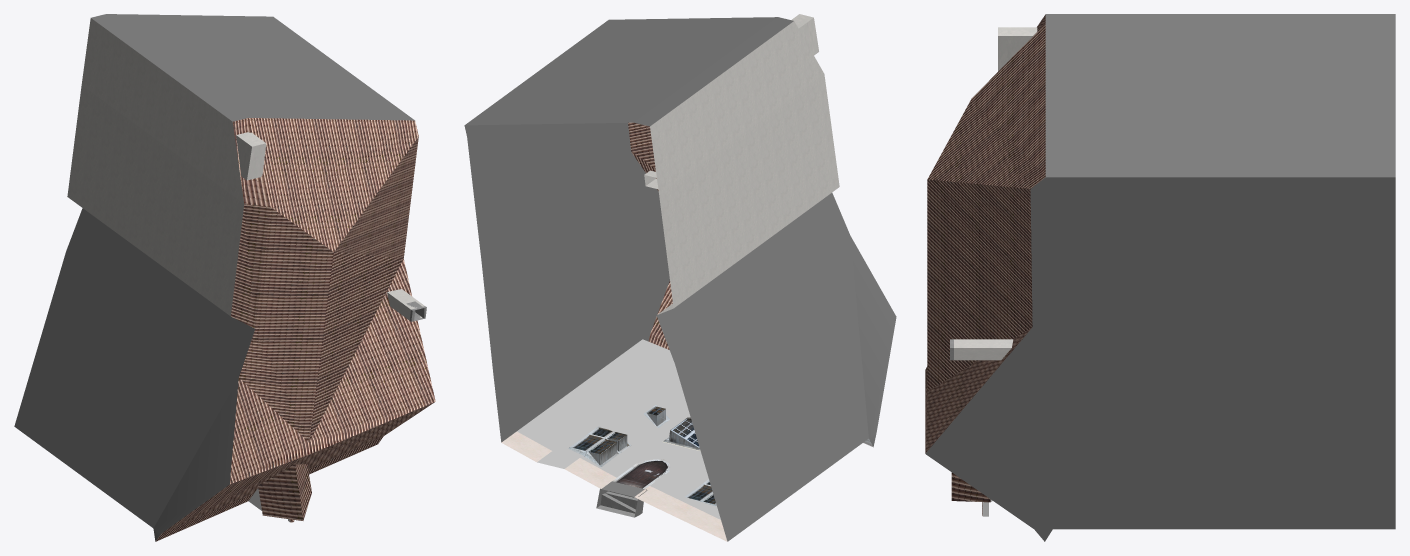
The model's file is Tolli_6-origo.obj.
3 renders of one model, left to right at view 1: azimuth 30°, elevation 25°; view 2: azimuth 150°, elevation 25°; view 3: azimuth 270°, elevation 25°, orthographic. The views are drawn at different scales.
Parts seen in each view (by area): view 1: Tolli_6; view 2: Tolli_6; view 3: Tolli_6.
Part boxes in pixels (x1,y1,x2,y2): Tolli_6: (14,14,435,541); Tolli_6: (464,14,896,541); Tolli_6: (925,14,1395,541).
Bounding box in the file's own units: 12.56 × 18.5 × 15.96.
